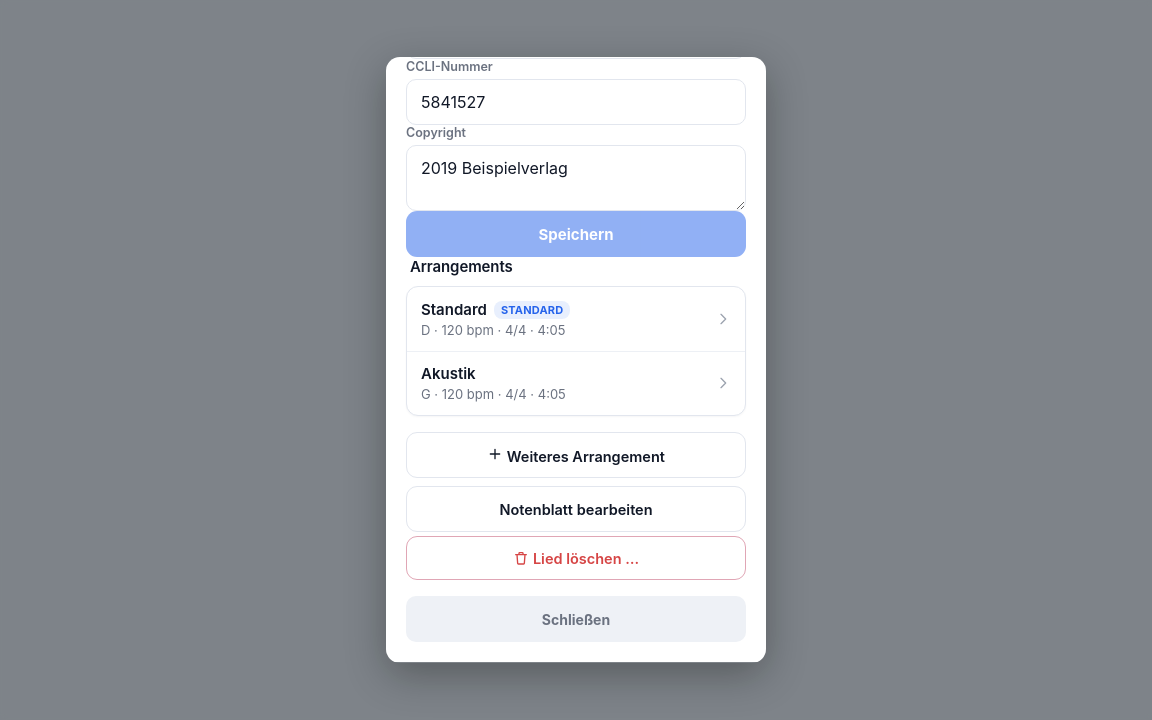
Test: EditSongSheet – Löschen › fragt vorher und nennt die Folgen
The width and height of the screenshot is (1152, 720).
(page scrolled)
Click the button "Lied löschen …" at [576, 558], box [406, 536, 746, 580]
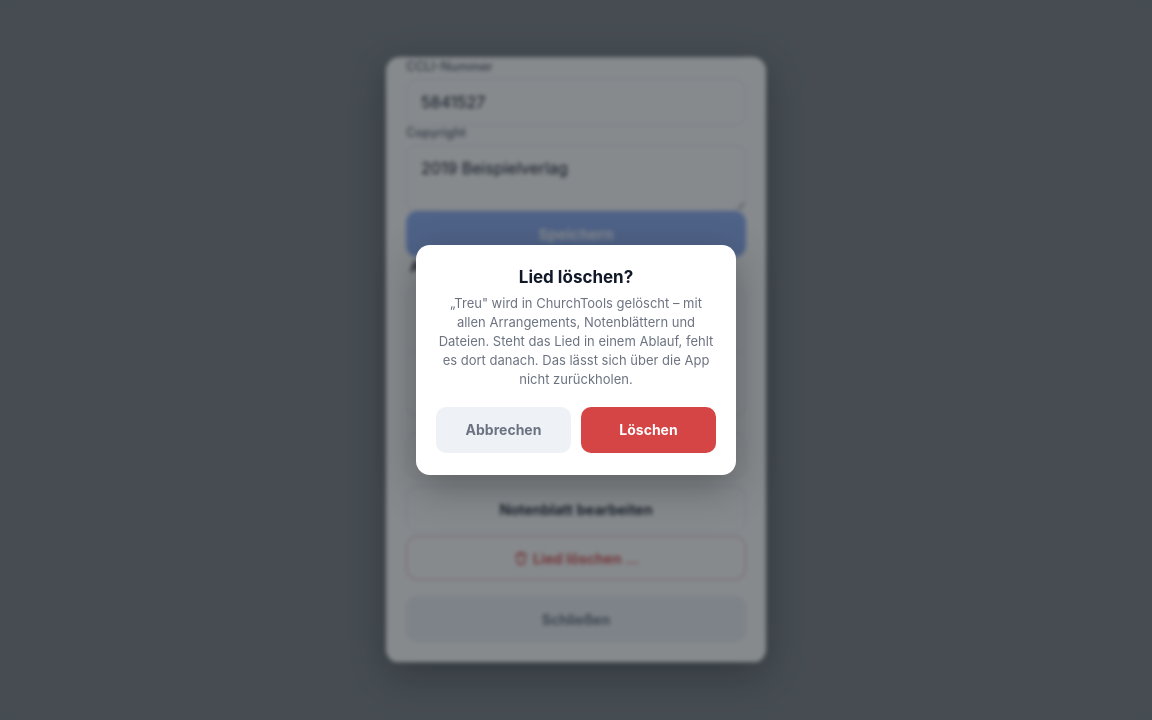
Expected: the text "Lied löschen?" is shown, [519, 267, 633, 287]
Expected: the text "wird in ChurchTools gelöscht" shows "Arrangements", [439, 295, 713, 387]
Expected: the text "wird in ChurchTools gelöscht" shows "Notenblättern", [439, 295, 713, 387]
